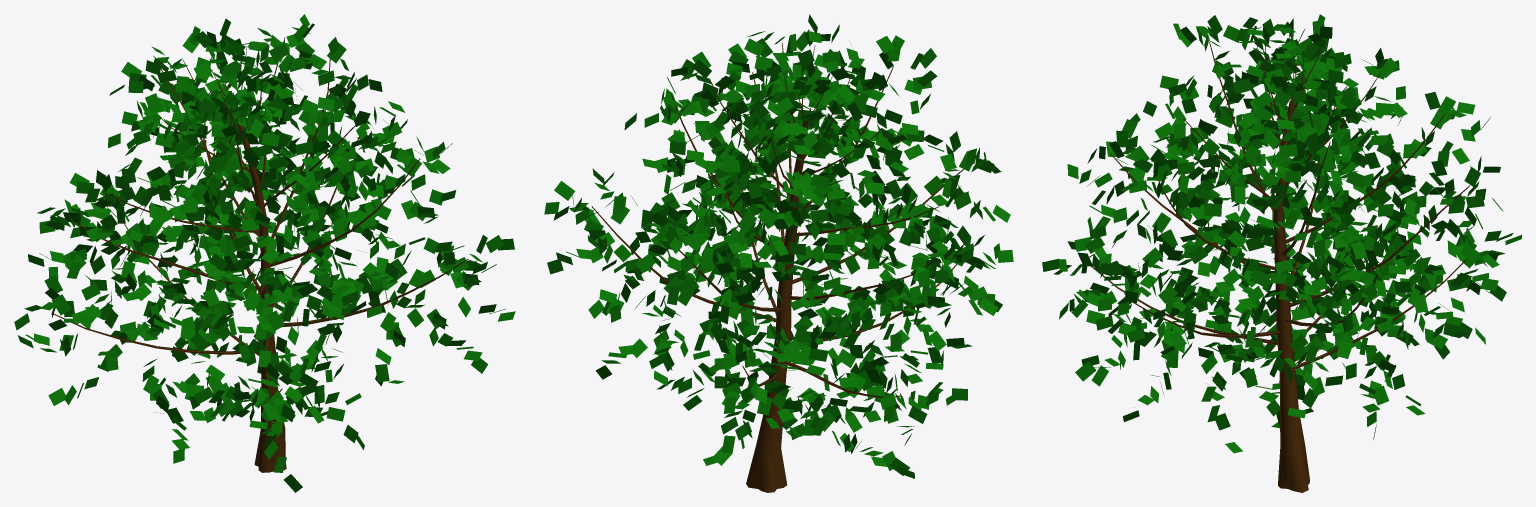
File: Busch 4.FBX
3 views of the same model, side by side, from view 1: azimuth 30°, elevation 25°; view 2: azimuth 150°, elevation 25°; view 3: azimuth 270°, elevation 25° (orthographic). The views are drawn at different scales.
Parts seen in each view (by area): view 1: Foliage007; view 2: Foliage007; view 3: Foliage007.
Boxes of the visible parts, x1=… form: Foliage007: x1=14, y1=14, x2=515, y2=492; Foliage007: x1=544, y1=14, x2=1013, y2=492; Foliage007: x1=1042, y1=14, x2=1521, y2=492.
Bounding box in the file's own units: 242 × 266 × 258.
